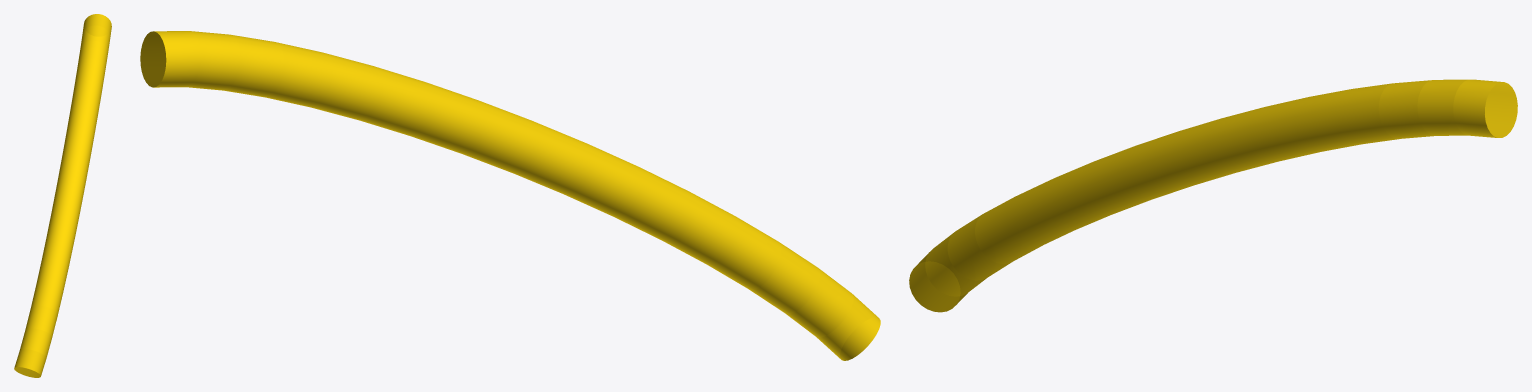
File: Event_420094457_track_89.fbx
3 views of the same model, side by side, from view 1: azimuth 30°, elevation 25°; view 2: azimuth 150°, elevation 25°; view 3: azimuth 270°, elevation 25° (orthographic). The views are drawn at different scales.
Visible parts, largest first — view 1: Model; view 2: Model; view 3: Model.
Part boxes in pixels (x1,y1,x2,y2): Model: (14, 14, 111, 377); Model: (140, 31, 880, 360); Model: (909, 79, 1517, 312).
Bounding box in the file's own units: 0.3804 × 0.3338 × 0.432.
